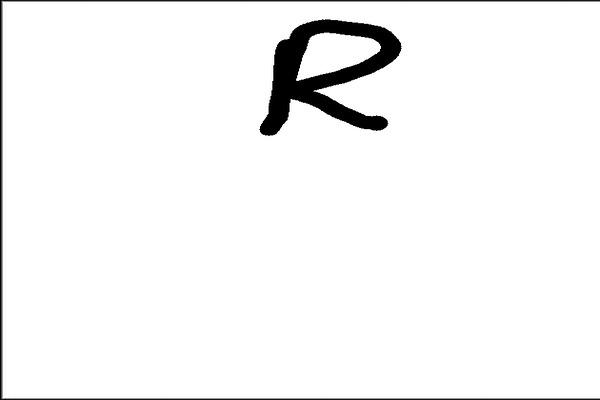R: (252, 16, 407, 133)
